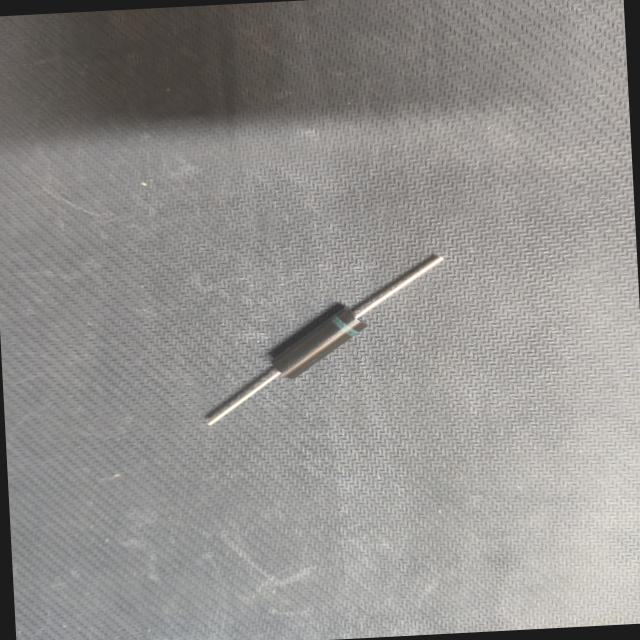resistor: (187, 247, 463, 428)
